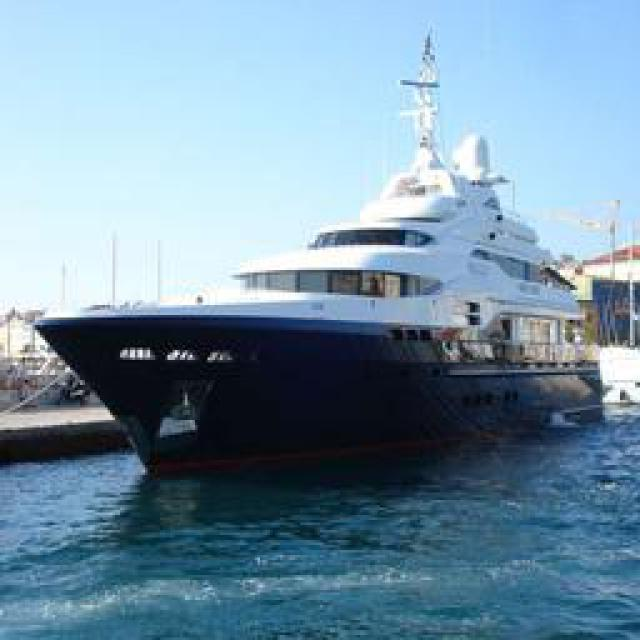Ship: (38, 40, 606, 470)
